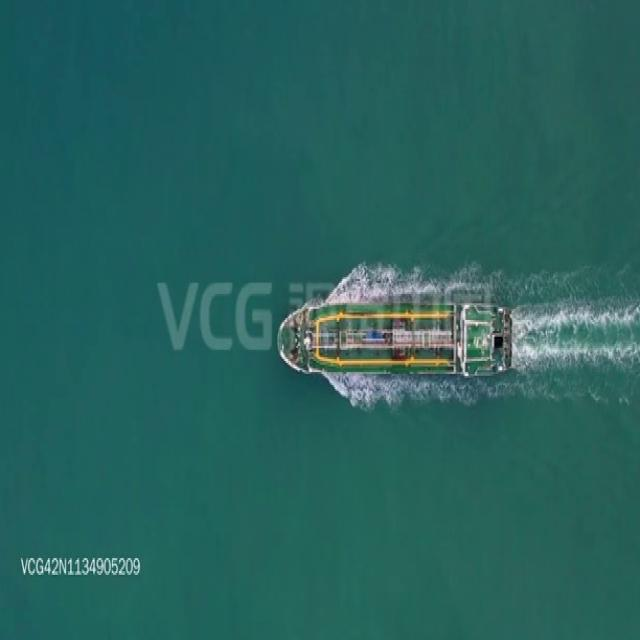houseboat: (268, 288, 512, 383)
